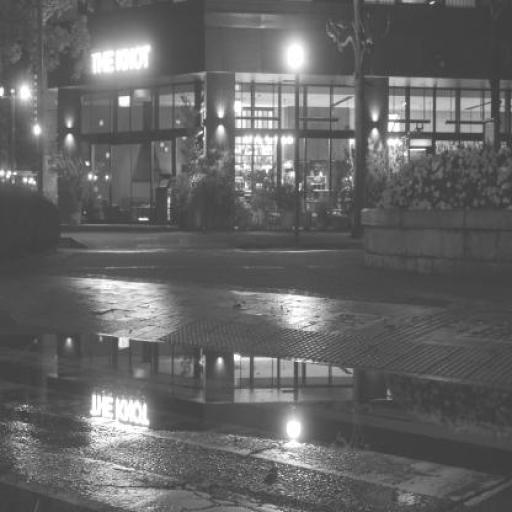street light: (288, 47, 304, 244), (0, 88, 29, 196)
